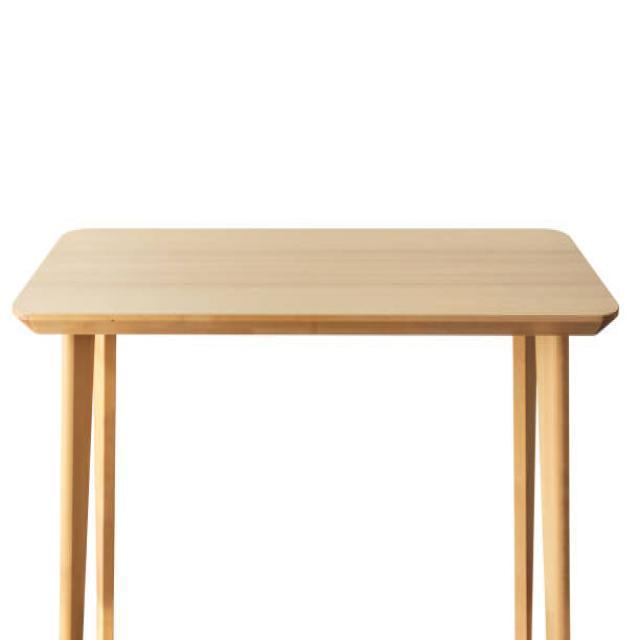table: (12, 223, 620, 637)
